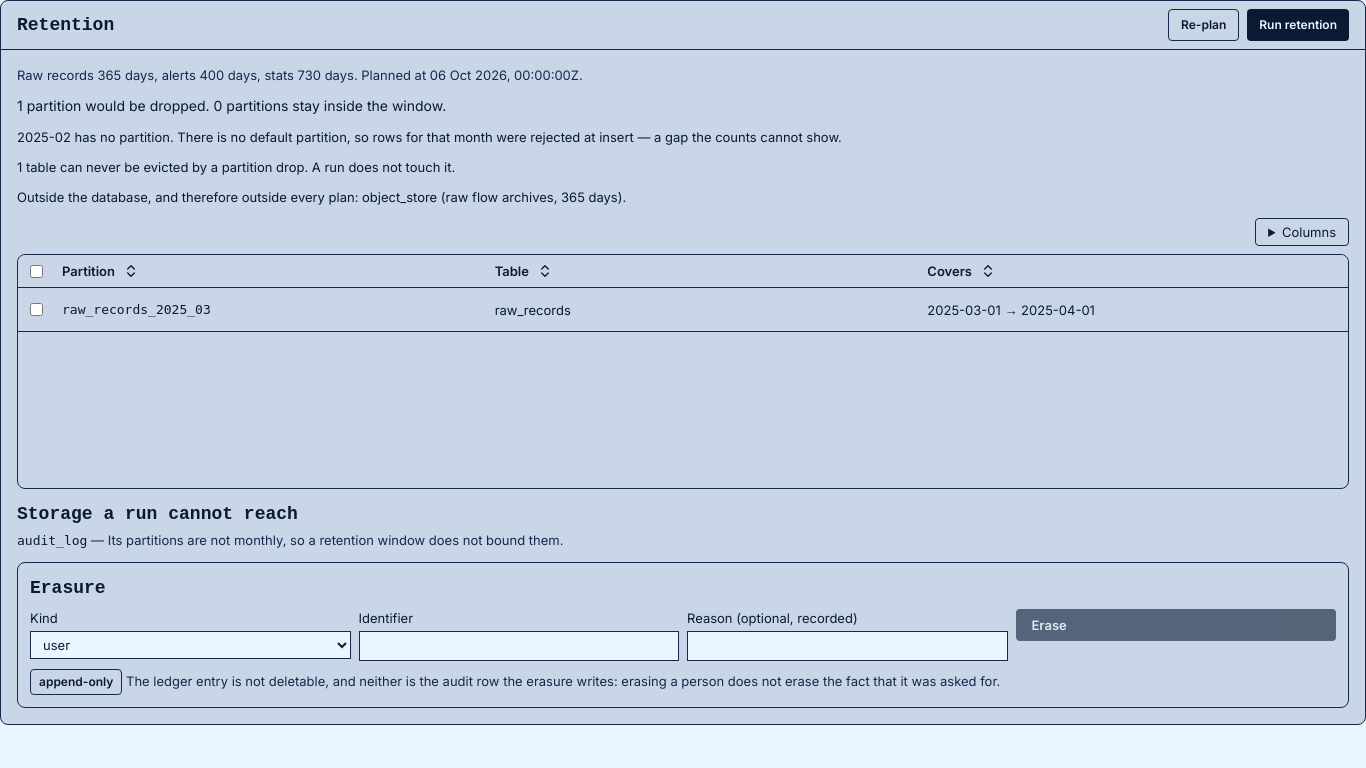
Test: RetentionPanel › confirms before dropping, naming the partitions
Click the button "Run retention".
click(1298, 25)  # box 1247,9 -> 1349,41
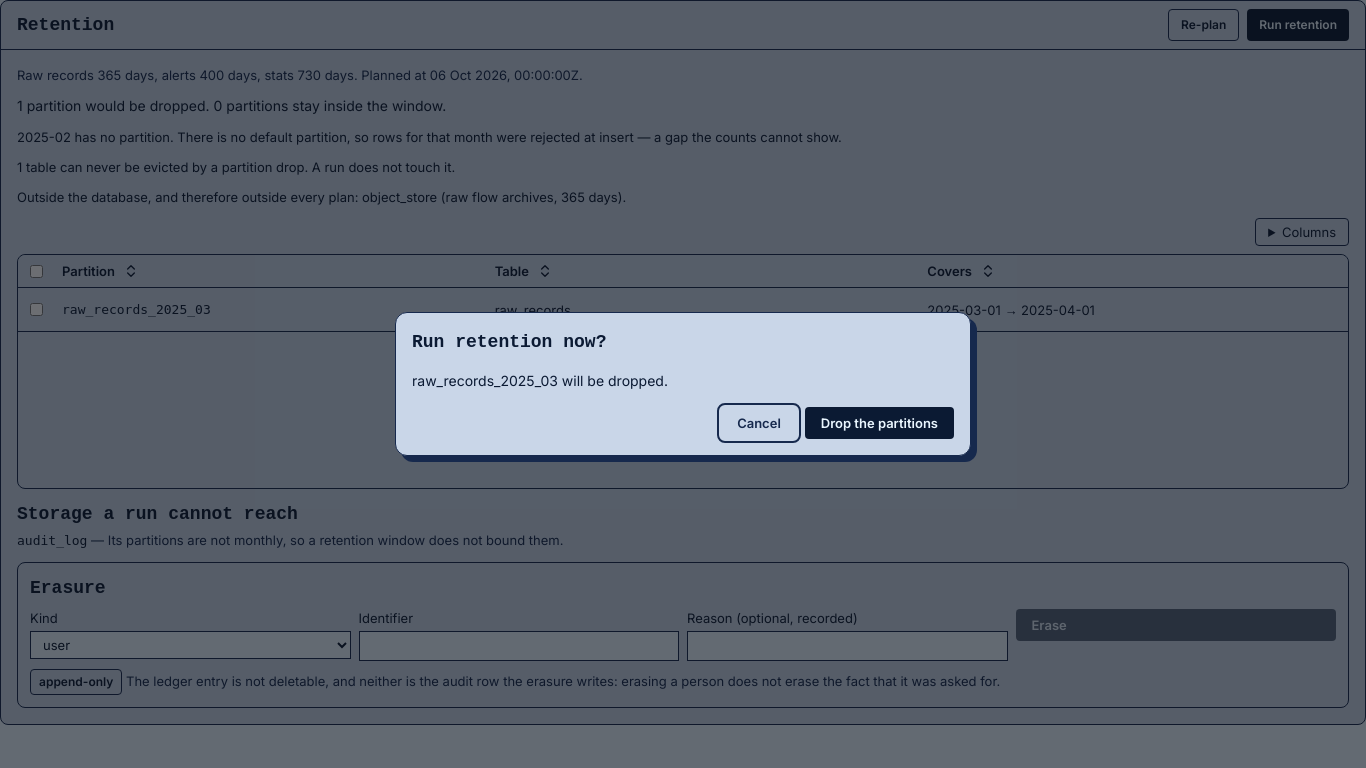
Now the text "raw_records_2025_03 will be dropped." is shown, box 412,372 -> 668,389
Click the button "Drop the partitions".
click(879, 423)  # box 805,407 -> 954,439
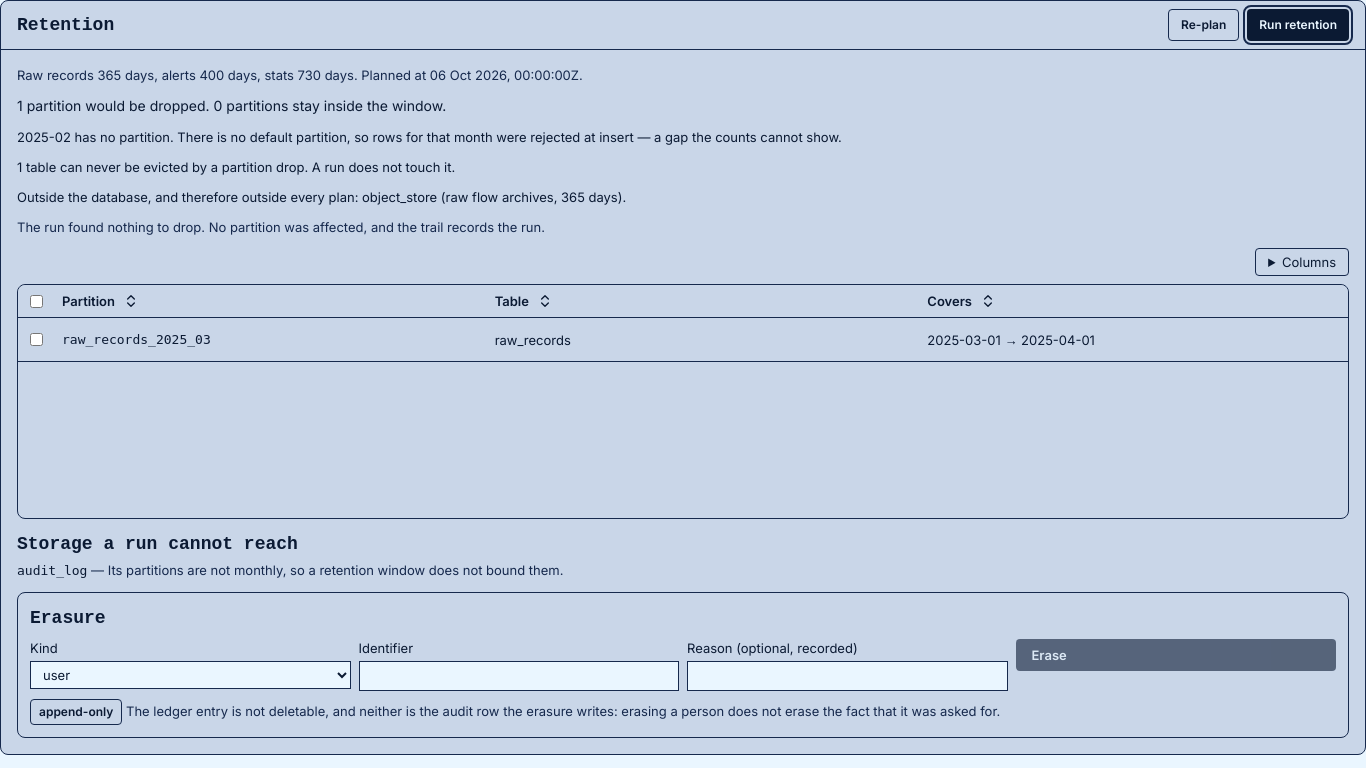
Now the text "found nothing to drop" is shown, box 17,219 -> 545,235
